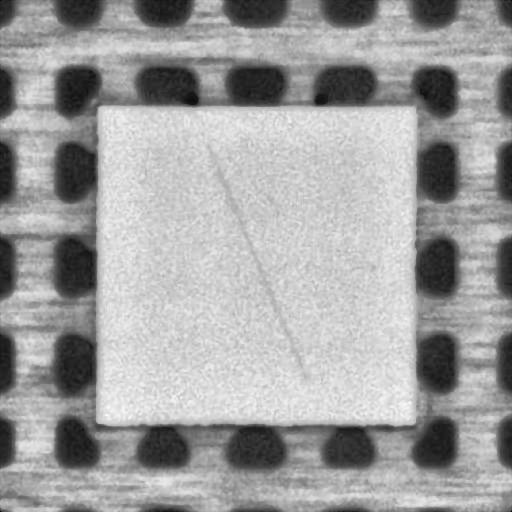DIE_CRACK: (207, 143, 304, 378)
